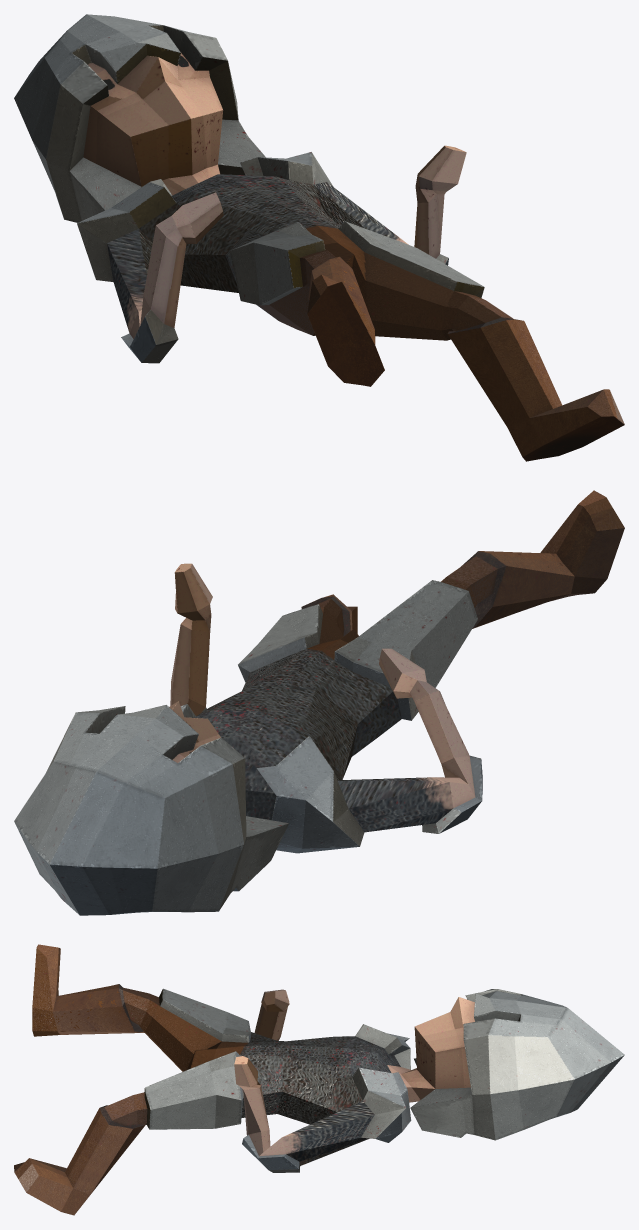
File: Walk_Soldier_6.obj
The picture shows the model from 3 angles, top to bottom: view 1: azimuth 30°, elevation 25°; view 2: azimuth 150°, elevation 25°; view 3: azimuth 270°, elevation 25°; orthographic projection. The views are drawn at different scales.
Visible parts, largest first — view 1: Soldado_LowPolySTD; view 2: Soldado_LowPolySTD; view 3: Soldado_LowPolySTD.
Part boxes in pixels (left/top/right/bottom): Soldado_LowPolySTD: left=14, top=14, right=624, bottom=461; Soldado_LowPolySTD: left=14, top=490, right=624, bottom=915; Soldado_LowPolySTD: left=14, top=944, right=624, bottom=1215.
Size of the model in its own units: 0.7264 by 0.5389 by 1.62.
